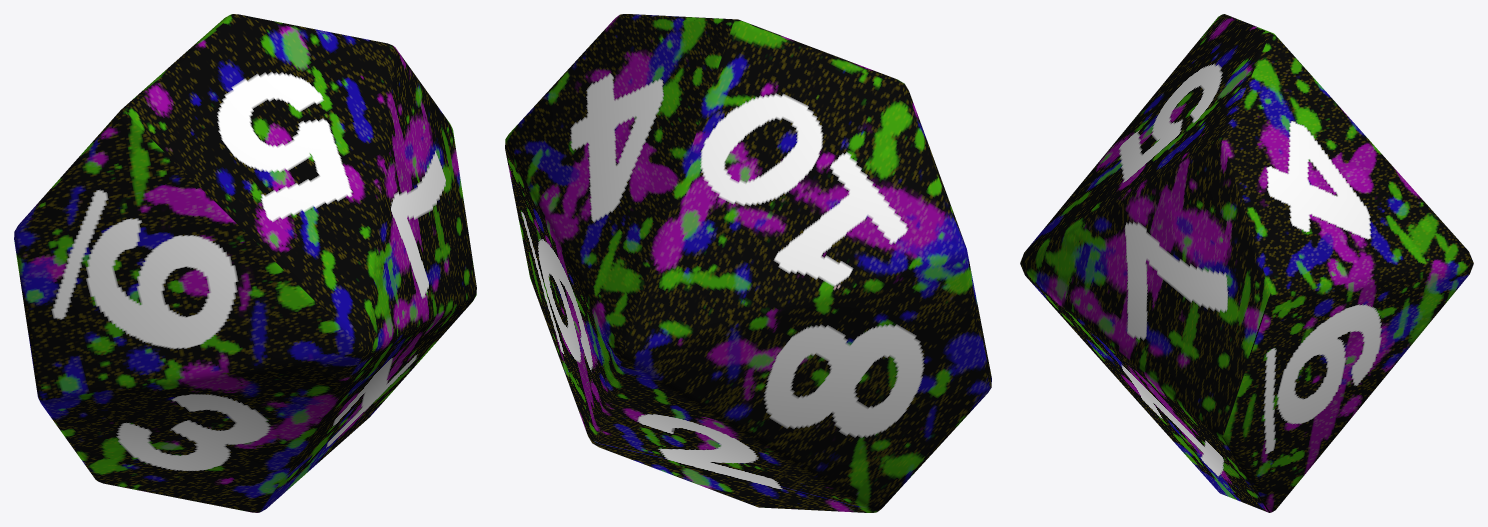
3 views of the same model, side by side, from view 1: azimuth 30°, elevation 25°; view 2: azimuth 150°, elevation 25°; view 3: azimuth 270°, elevation 25° (orthographic). The views are drawn at different scales.
Visible parts, largest first — view 1: 10TieDye_10TieDye_0; view 2: 10TieDye_10TieDye_0; view 3: 10TieDye_10TieDye_0.
Part boxes in pixels (bbox=[...]): 10TieDye_10TieDye_0: bbox=[14, 14, 476, 512]; 10TieDye_10TieDye_0: bbox=[505, 14, 991, 512]; 10TieDye_10TieDye_0: bbox=[1020, 14, 1473, 512].
Bounding box in the file's own units: 1.51 × 1.58 × 1.41.
Materials: 1 (1 with a texture image).
